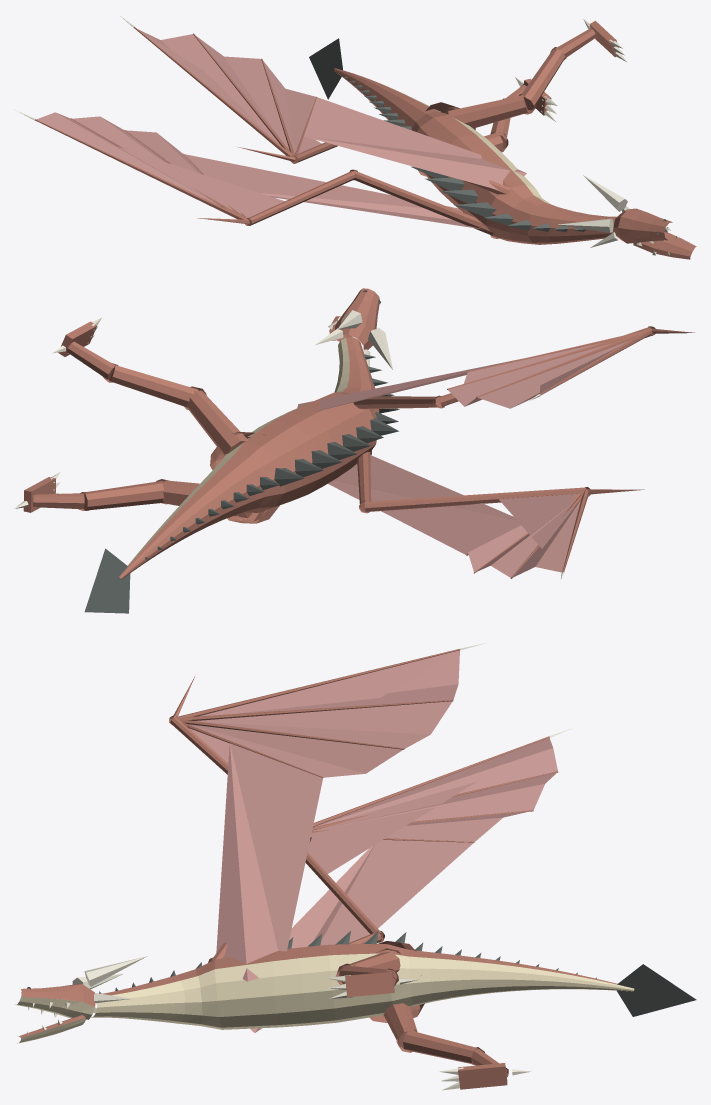
Rendered from dragons-and-wyverns-wyvern-slain-d4dff59c__36720.glb.
3 renders of one model, top to bottom at view 1: azimuth 30°, elevation 25°; view 2: azimuth 150°, elevation 25°; view 3: azimuth 270°, elevation 25°, orthographic. The views are drawn at different scales.
Parts seen in each view (by area): view 1: wyvern-slain; view 2: wyvern-slain; view 3: wyvern-slain.
Part boxes in pixels (x1,y1,x2,y2): wyvern-slain: [15, 15, 696, 259]; wyvern-slain: [14, 288, 694, 613]; wyvern-slain: [15, 642, 696, 1090].
Bounding box in the file's own units: 6.34 × 2.48 × 6.59.
